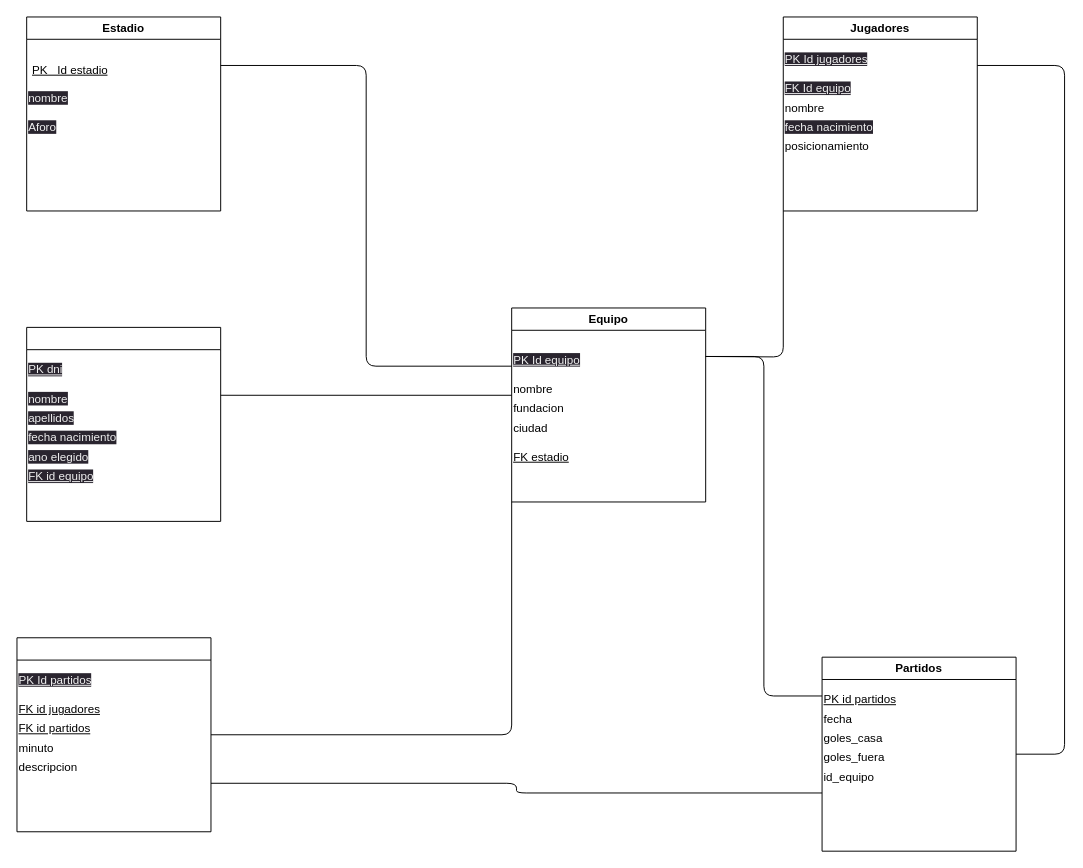
This 1083x868 diagram has some shape labels left out. Each missing label, with the box of its shape:
Goles: (16, 637, 211, 832)
Presidentes: (26, 326, 221, 521)
